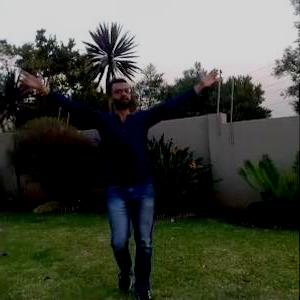takeoff: (1, 53, 233, 283)
